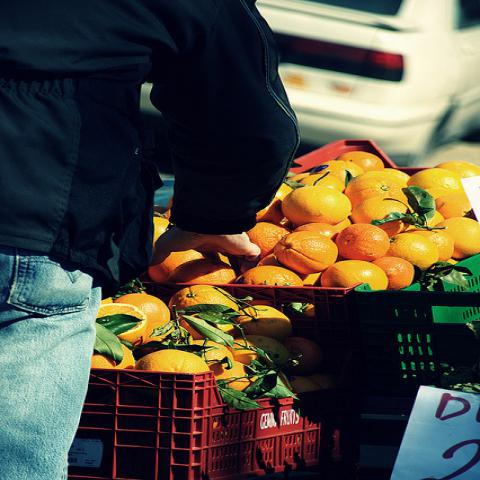car: (261, 0, 479, 158)
